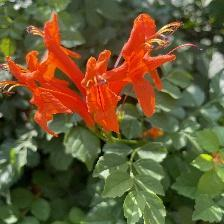honeysuckle: (77, 51, 132, 129)
